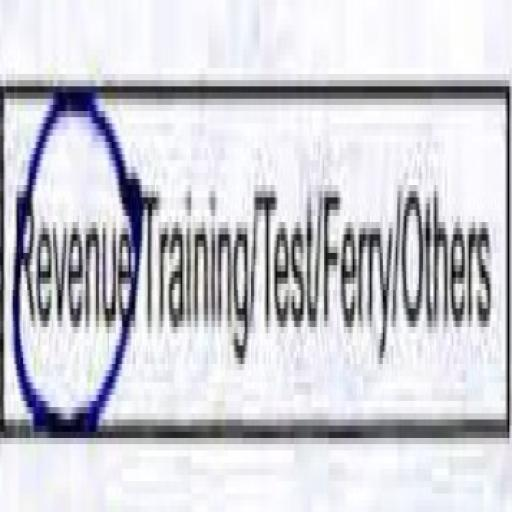check: (10, 25, 139, 512)
